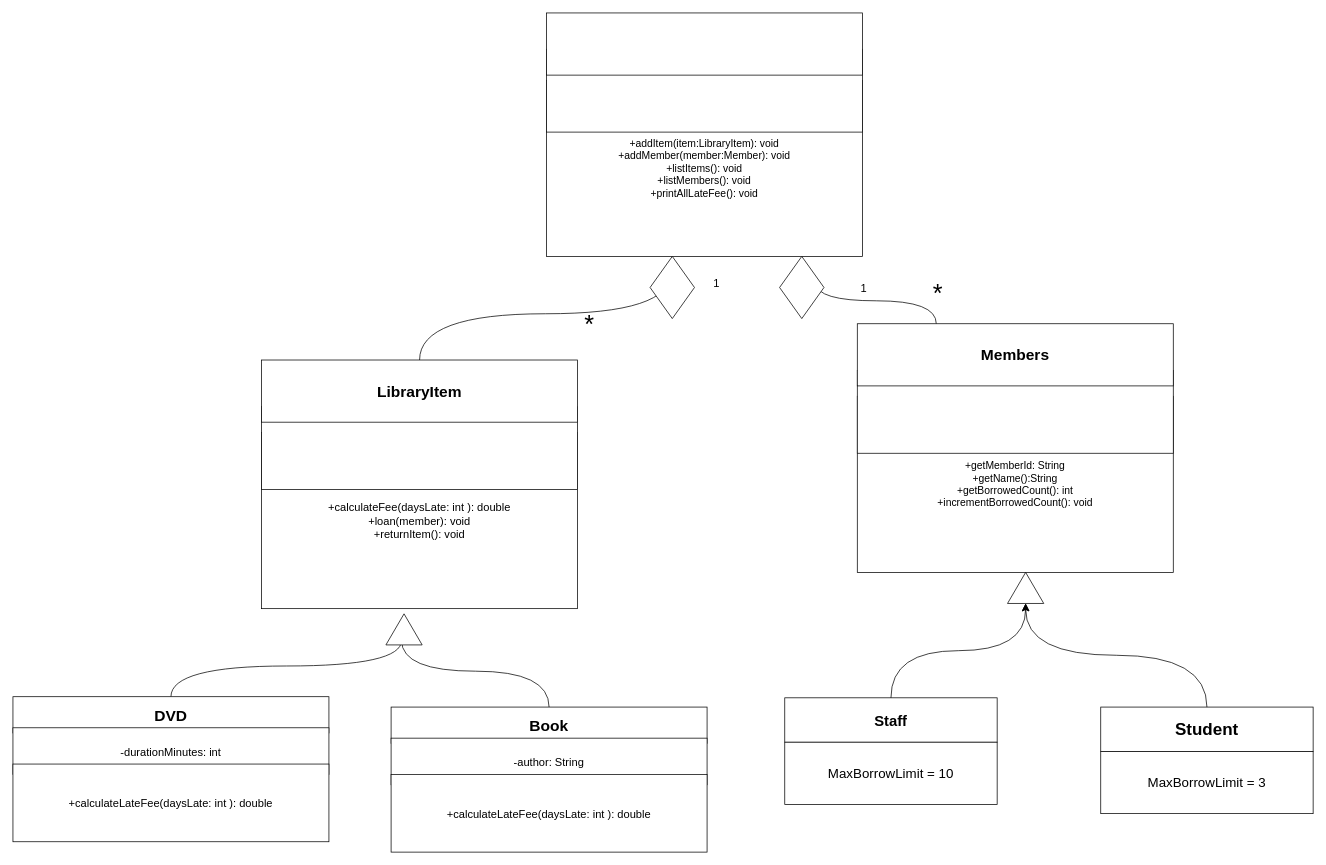
This 1326x865 diagram has some shape labels left out. The centre of each missing label's shape, as x and y in pixels:
-id: String -title: String -isBorrowed: boolean: point 419,448
-items:List<LibraryItem> -members:List<members>: point 704,90
Library: point 704,43
memberId:String name:String borrowedCount: int maxBorrowLimit: int: point 1015,411
